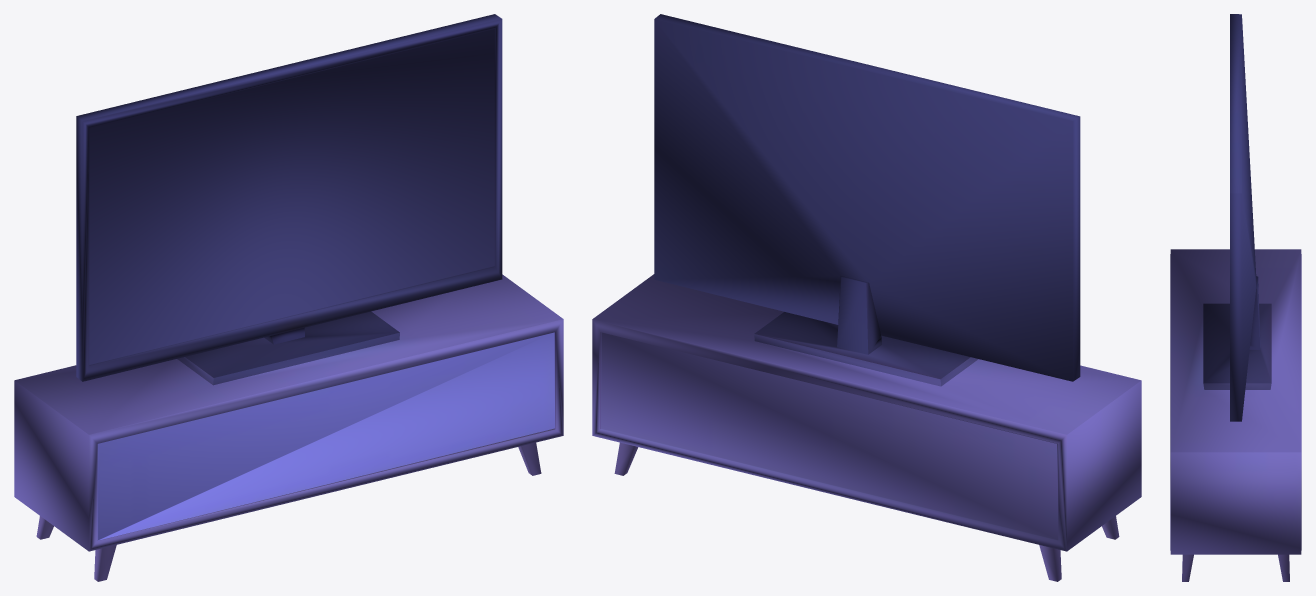
The model's file is model.progressive.glb.
3 renders of one model, left to right at view 1: azimuth 30°, elevation 25°; view 2: azimuth 150°, elevation 25°; view 3: azimuth 270°, elevation 25°, orthographic. The views are drawn at different scales.
Visible parts, largest first — view 1: mesh_input; view 2: mesh_input; view 3: mesh_input.
Boxes of the visible parts, box(x1,y1,x2,y2) form: mesh_input: box(14, 14, 563, 581); mesh_input: box(592, 14, 1141, 581); mesh_input: box(1170, 14, 1301, 581).
Size of the model in its own units: 1.89 by 1.67 by 0.5195.
Materials: 1 (1 with a texture image).
